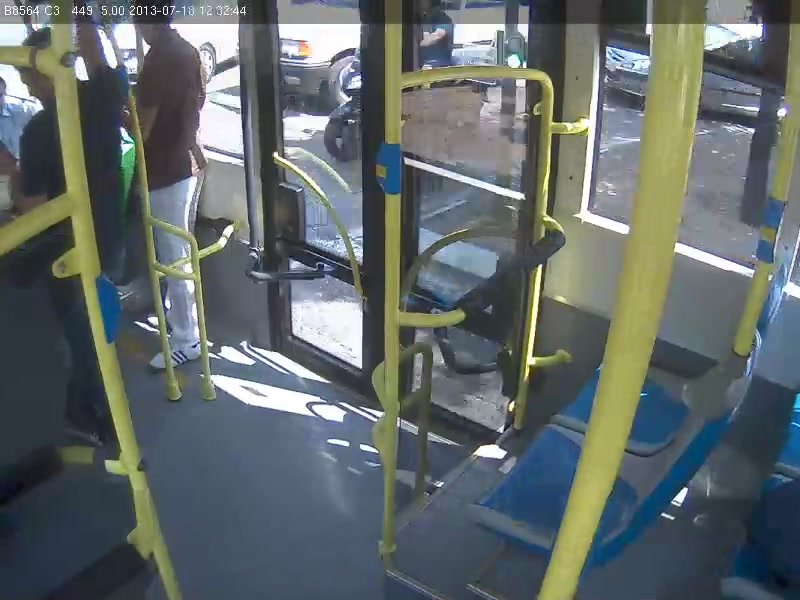Head: (17, 29, 59, 109), (130, 0, 171, 52)
